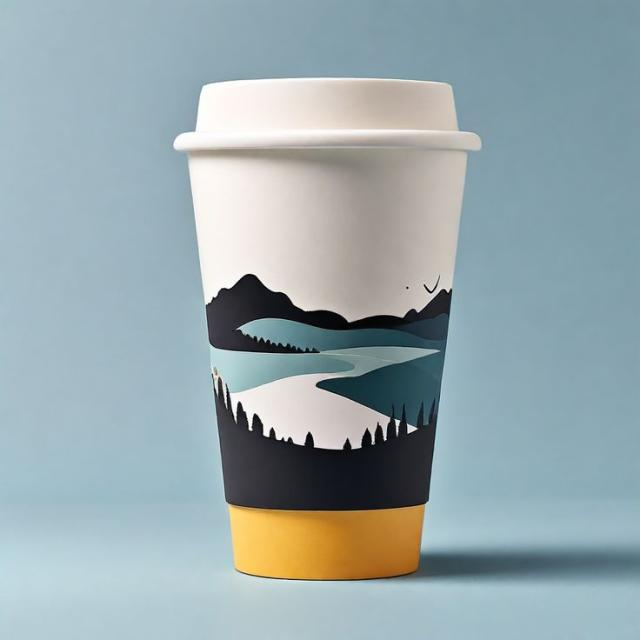paper cup: (173, 78, 483, 580)
